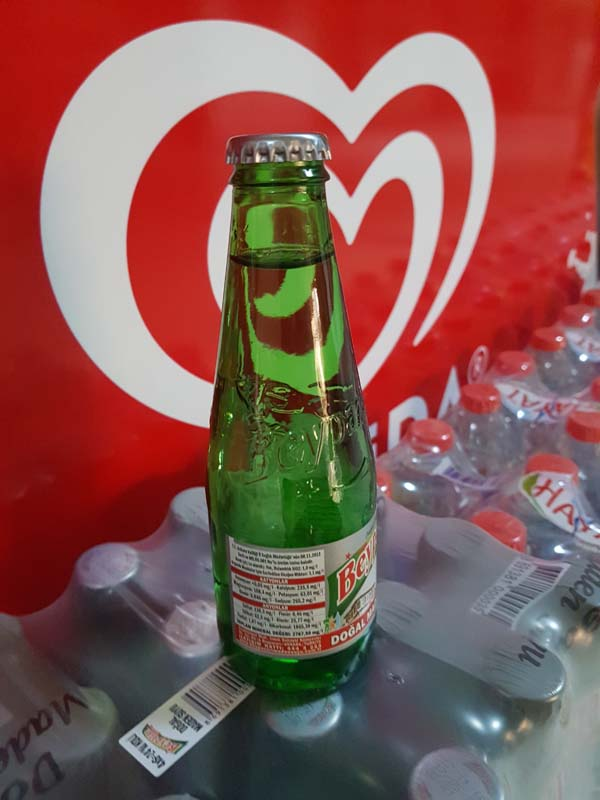beypazarimadensuyu: (195, 127, 390, 690)
